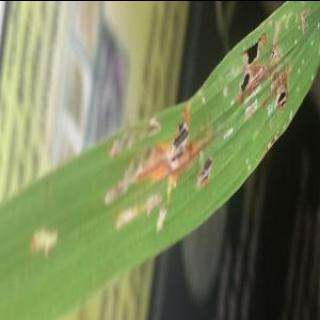Blast: (110, 124, 172, 229), (22, 214, 66, 264), (238, 37, 268, 107), (172, 109, 196, 172), (276, 58, 294, 110), (202, 152, 221, 190)
